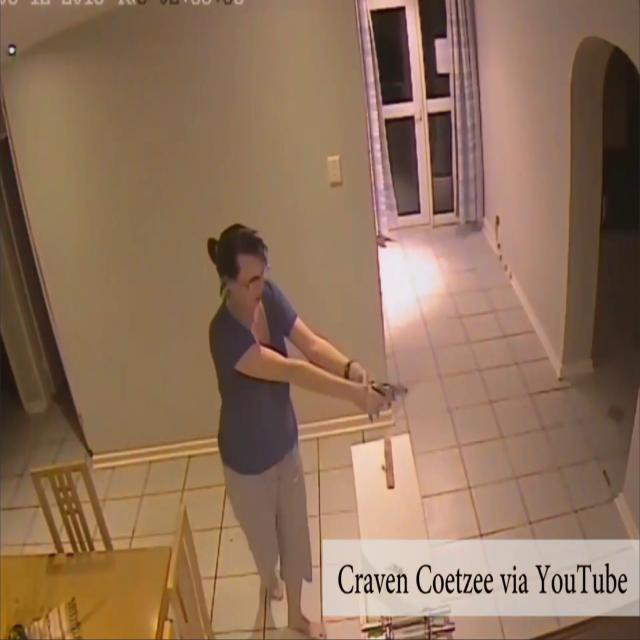gun: (364, 378, 410, 422)
